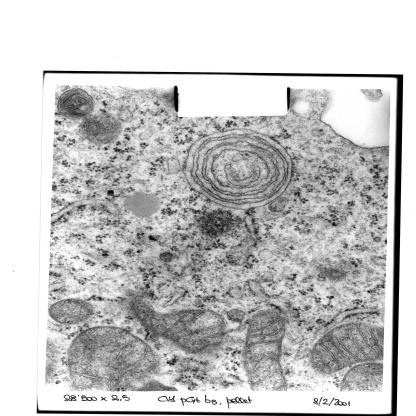mitochondria: (63, 326, 166, 392), (128, 294, 229, 354), (304, 322, 384, 376), (241, 310, 293, 392), (48, 298, 94, 326)
